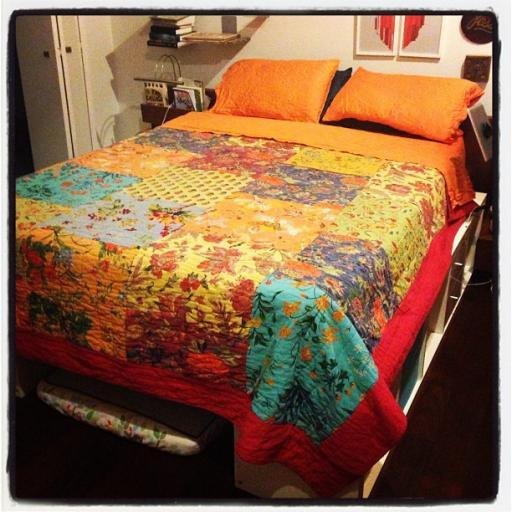bed: (22, 48, 482, 477)
